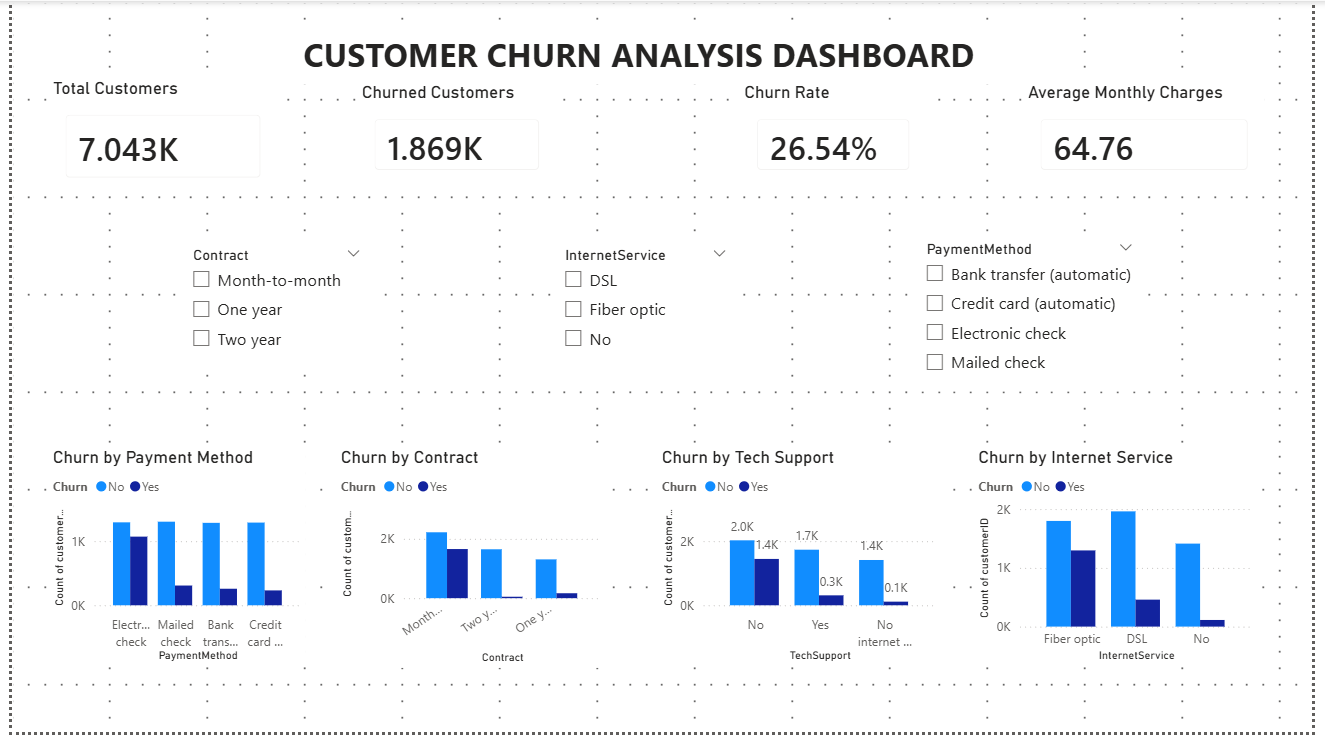

Layout of this report page (visuals, bound fields, positions):
{"tool":"powerbi","page":{"name":"Page 1","canvas":[1280,720],"ordinal":0},"visuals":[{"type":"cardVisual","title":"Total Customers","fields":{"Data":["CountNonNull(Telco-Customer-Churn-Cleaned.customerID)"]},"box":[36,76,226,116],"z":0},{"type":"cardVisual","title":"Churned Customers","fields":{"Data":["CountNonNull(Telco-Customer-Churn-Cleaned.customerID)"]},"box":[340,80,196,104],"z":1000},{"type":"cardVisual","title":"Churn Rate","fields":{"Data":["Telco-Customer-Churn-Cleaned.Churn Rate"]},"box":[716,80,184,104],"z":2000},{"type":"cardVisual","title":"Average Monthly Charges","fields":{"Data":["Avg(Telco-Customer-Churn-Cleaned.MonthlyCharges)"]},"box":[996,80,238,104],"z":3000},{"type":"clusteredColumnChart","title":"Churn by Contract","fields":{"Category":["Telco-Customer-Churn-Cleaned.Contract"],"Y":["CountNonNull(Telco-Customer-Churn-Cleaned.customerID)"],"Series":["Telco-Customer-Churn-Cleaned.Churn"]},"box":[319.3,438,266,218],"z":4000},{"type":"clusteredColumnChart","title":"Churn by Internet Service","fields":{"Category":["Telco-Customer-Churn-Cleaned.InternetService"],"Series":["Telco-Customer-Churn-Cleaned.Churn"],"Y":["CountNonNull(Telco-Customer-Churn-Cleaned.customerID)"]},"box":[947.3,438,280,216],"z":5000},{"type":"clusteredColumnChart","title":"Churn by Payment Method","fields":{"Category":["Telco-Customer-Churn-Cleaned.PaymentMethod"],"Y":["CountNonNull(Telco-Customer-Churn-Cleaned.customerID)"],"Series":["Telco-Customer-Churn-Cleaned.Churn"]},"box":[35.3,438,254,216],"z":6000},{"type":"clusteredColumnChart","title":"Churn by Tech Support","fields":{"Category":["Telco-Customer-Churn-Cleaned.TechSupport"],"Y":["CountNonNull(Telco-Customer-Churn-Cleaned.customerID)"],"Series":["Telco-Customer-Churn-Cleaned.Churn"]},"box":[635.3,438,280,216],"z":7000},{"type":"slicer","fields":{"Values":["Telco-Customer-Churn-Cleaned.Contract"]},"box":[166,236,190,124],"z":9000},{"type":"slicer","fields":{"Values":["Telco-Customer-Churn-Cleaned.InternetService"]},"box":[532,236,184,144],"z":10000},{"type":"slicer","fields":{"Values":["Telco-Customer-Churn-Cleaned.PaymentMethod"]},"box":[888,230,228,154],"z":11000},{"type":"textbox","box":[281.6,24.6,714.3,56.7],"z":12000}]}

Visuals, with their boxes in screenshot pixels (x1, y1, x2, y2), scaled from the page's 1280x720 canvas onto the 1325x742 screenshot:
"Total Customers" cardVisual: x1=37, y1=78, x2=271, y2=198
"Churned Customers" cardVisual: x1=352, y1=82, x2=555, y2=190
"Churn Rate" cardVisual: x1=741, y1=82, x2=932, y2=190
"Average Monthly Charges" cardVisual: x1=1031, y1=82, x2=1277, y2=190
"Churn by Contract" clusteredColumnChart: x1=331, y1=451, x2=606, y2=676
"Churn by Internet Service" clusteredColumnChart: x1=981, y1=451, x2=1270, y2=674
"Churn by Payment Method" clusteredColumnChart: x1=37, y1=451, x2=299, y2=674
"Churn by Tech Support" clusteredColumnChart: x1=658, y1=451, x2=947, y2=674
slicer - Telco-Customer-Churn-Cleaned.Contract: x1=172, y1=243, x2=369, y2=371
slicer - Telco-Customer-Churn-Cleaned.InternetService: x1=551, y1=243, x2=741, y2=392
slicer - Telco-Customer-Churn-Cleaned.PaymentMethod: x1=919, y1=237, x2=1155, y2=396
textbox: x1=292, y1=25, x2=1031, y2=84
